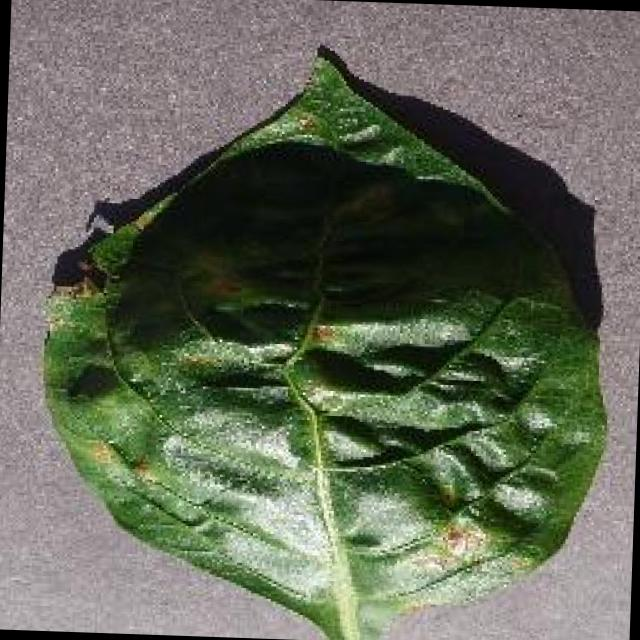Chilli_Bacterial_Spot: (26, 32, 624, 640), (426, 514, 488, 566), (62, 358, 118, 406), (508, 399, 557, 441), (437, 522, 473, 558), (428, 477, 464, 512), (85, 434, 118, 468), (304, 317, 338, 348)
